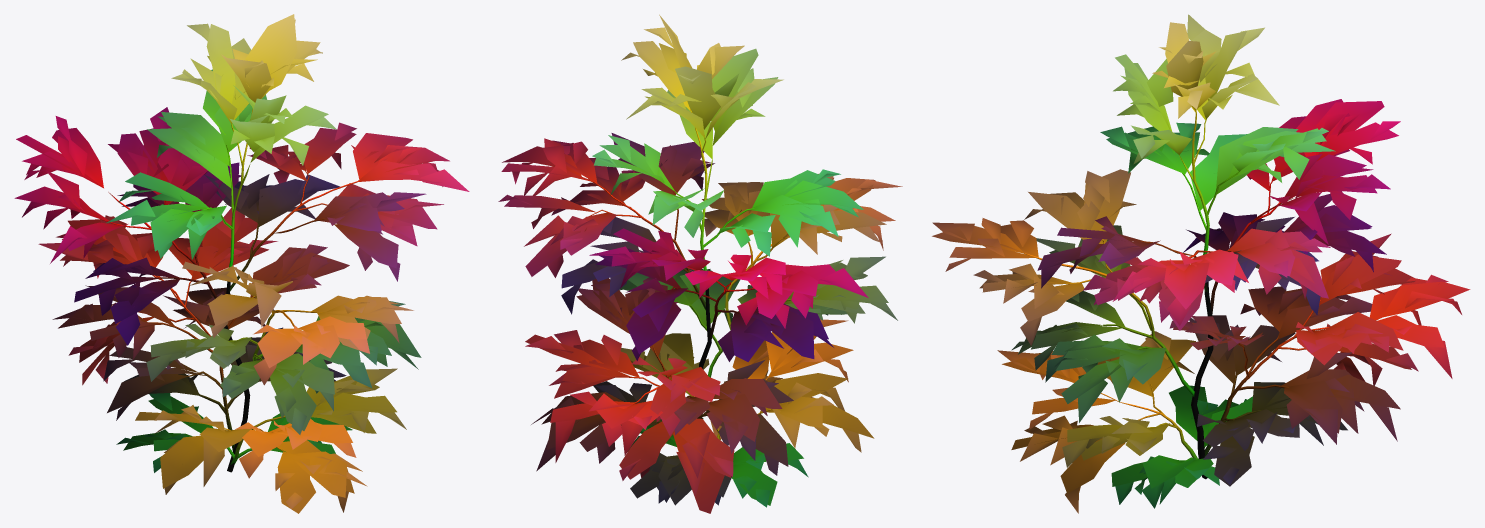
Rendered from SM_EuropeanBeech_S_01.fbx.
3 renders of one model, left to right at view 1: azimuth 30°, elevation 25°; view 2: azimuth 150°, elevation 25°; view 3: azimuth 270°, elevation 25°, orthographic. The views are drawn at different scales.
Parts seen in each view (by area): view 1: SM_EuropeanBeech_S_01_LOD0; view 2: SM_EuropeanBeech_S_01_LOD0; view 3: SM_EuropeanBeech_S_01_LOD0.
Boxes of the visible parts, <box> form: SM_EuropeanBeech_S_01_LOD0: <box>14,14,469,513</box>; SM_EuropeanBeech_S_01_LOD0: <box>498,14,902,513</box>; SM_EuropeanBeech_S_01_LOD0: <box>932,14,1470,513</box>.
Bounding box in the file's own units: 287 × 341 × 331.
